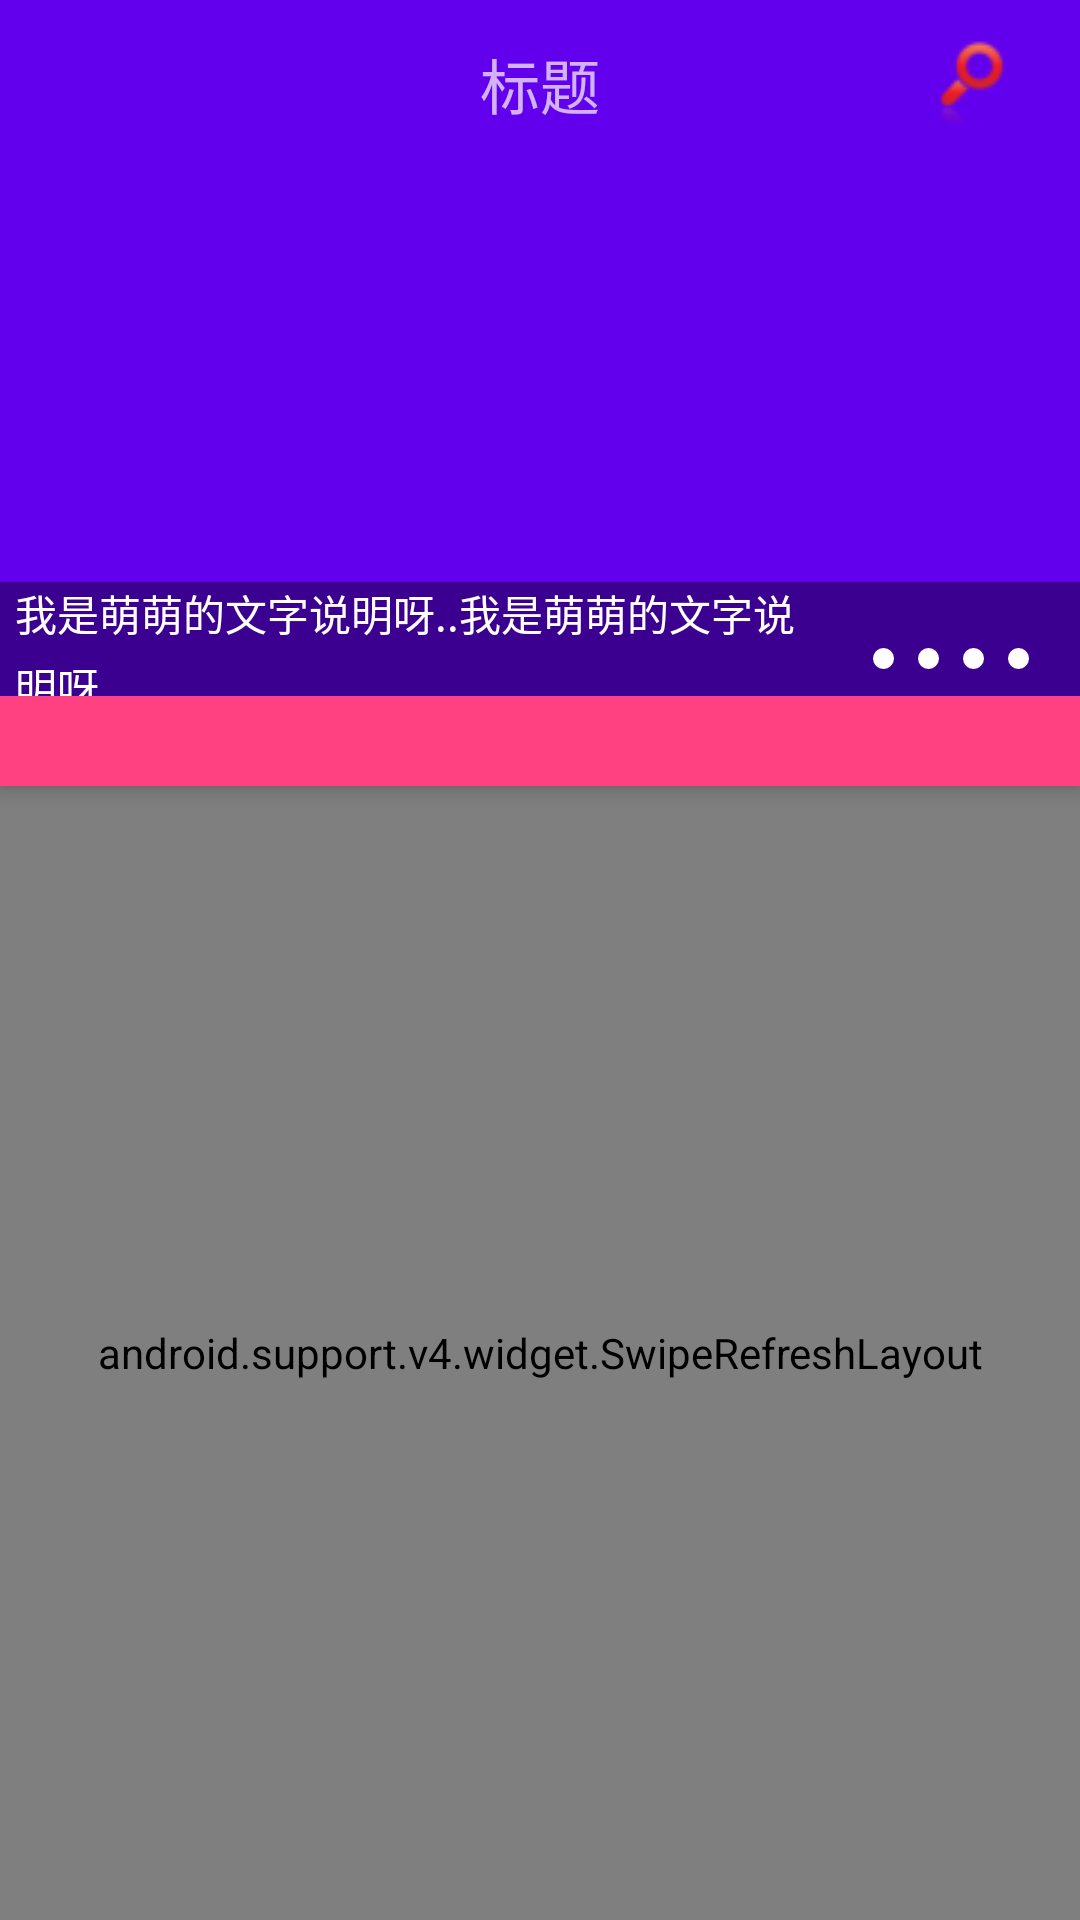

Icon bounding boxes for this 1080 x 1920 phone screenshot, format bbox=[x1, y1, x2, y2]:
search: bbox=[940, 41, 1004, 115]
